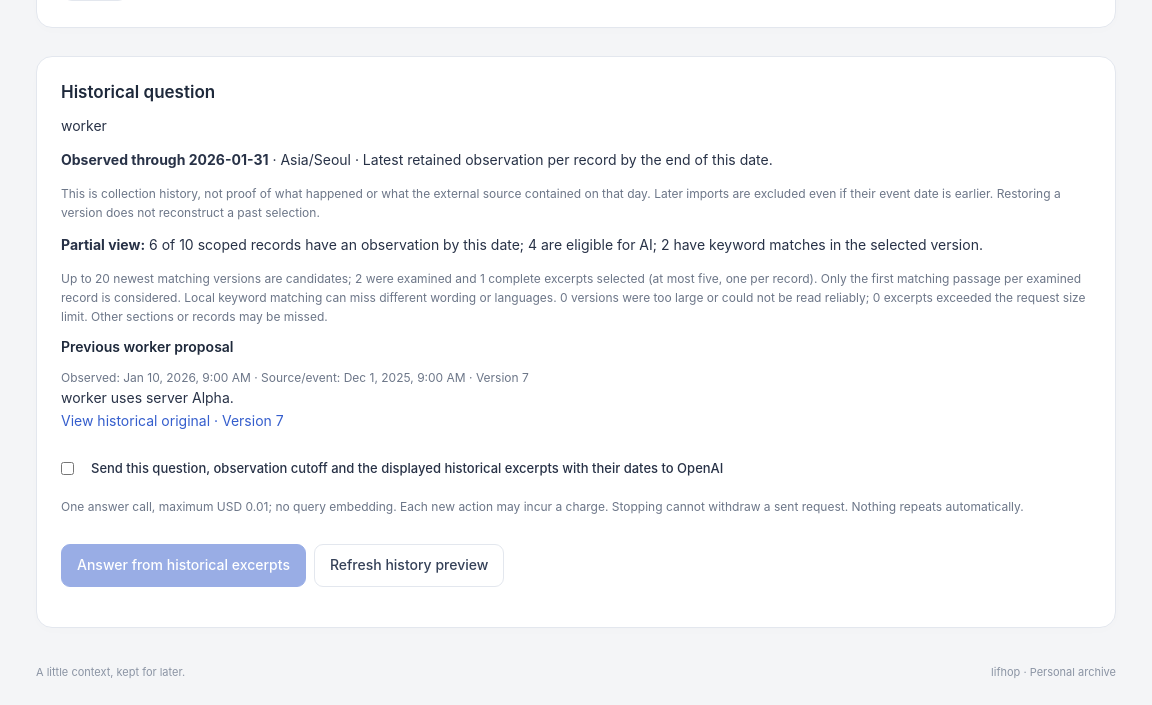
it: reports changed previews without automatic paid retry
(page scrolled)
Expected: the button "Answer from historical excerpts" is shown, 61,544 -> 306,587
Click the checkbox named "Send this question, observation cutoff and the displayed historical excerpts with their dates to OpenAI" at (68, 469), box 61,460 -> 74,477
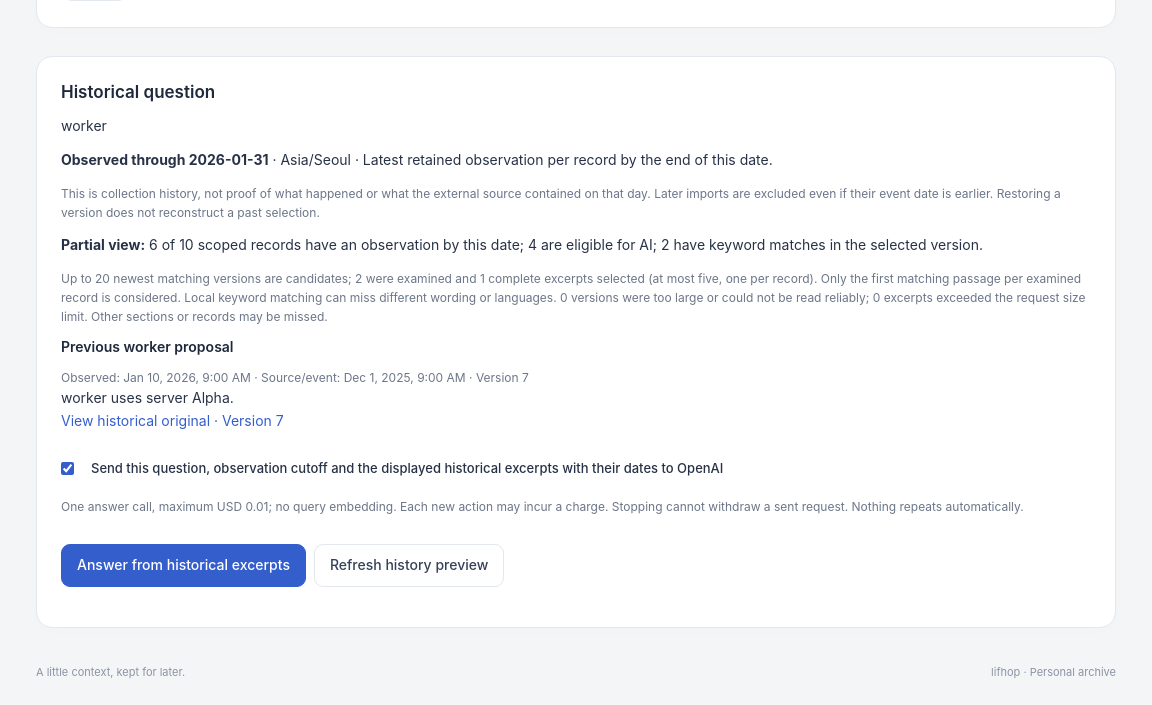
Click the button "Answer from historical excerpts" at (183, 565), box 61,544 -> 306,587
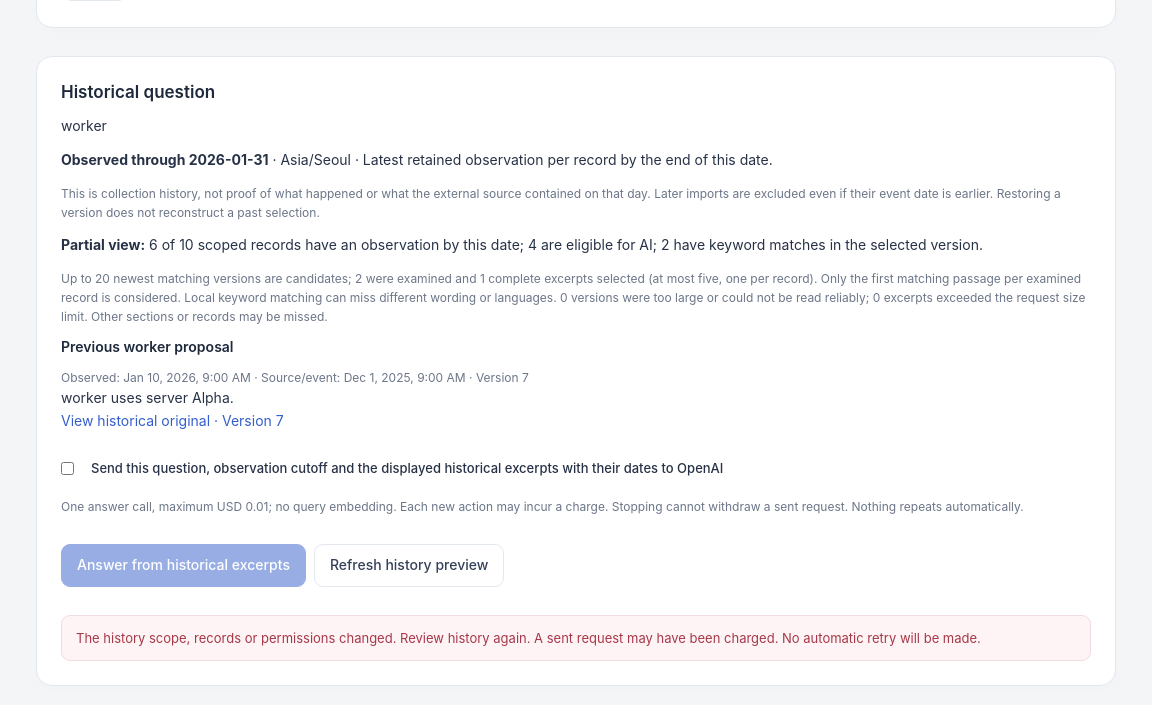
Expected: the message shows "changed", 76,630 -> 981,646
